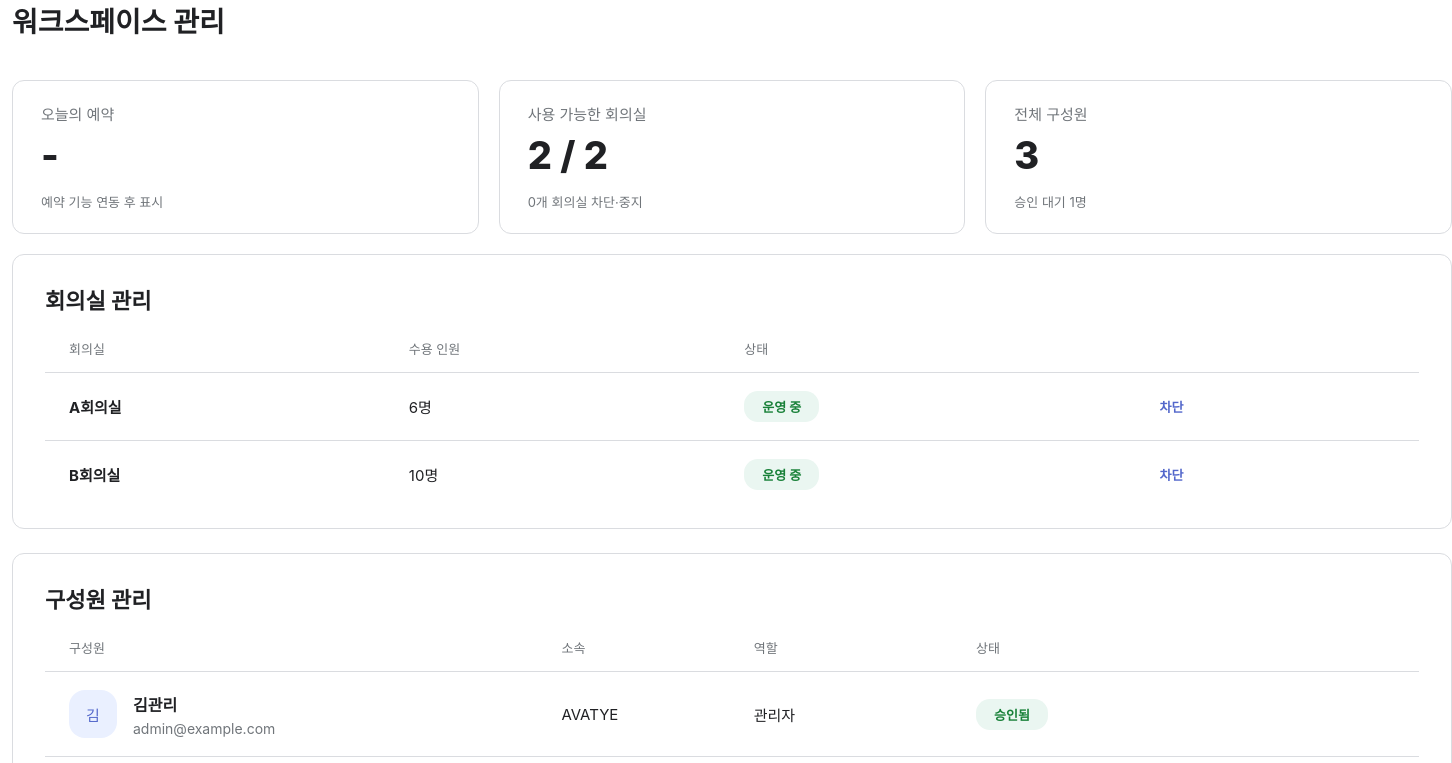
AdminPage › 처리에 실패하면 오류를 보여 주고 목록을 다시 받는다
Check: the text "A회의실" is shown, box [45, 372, 385, 440]
Click the button "차단" in the row of "A회의실" at (1171, 406), box [1160, 397, 1183, 416]
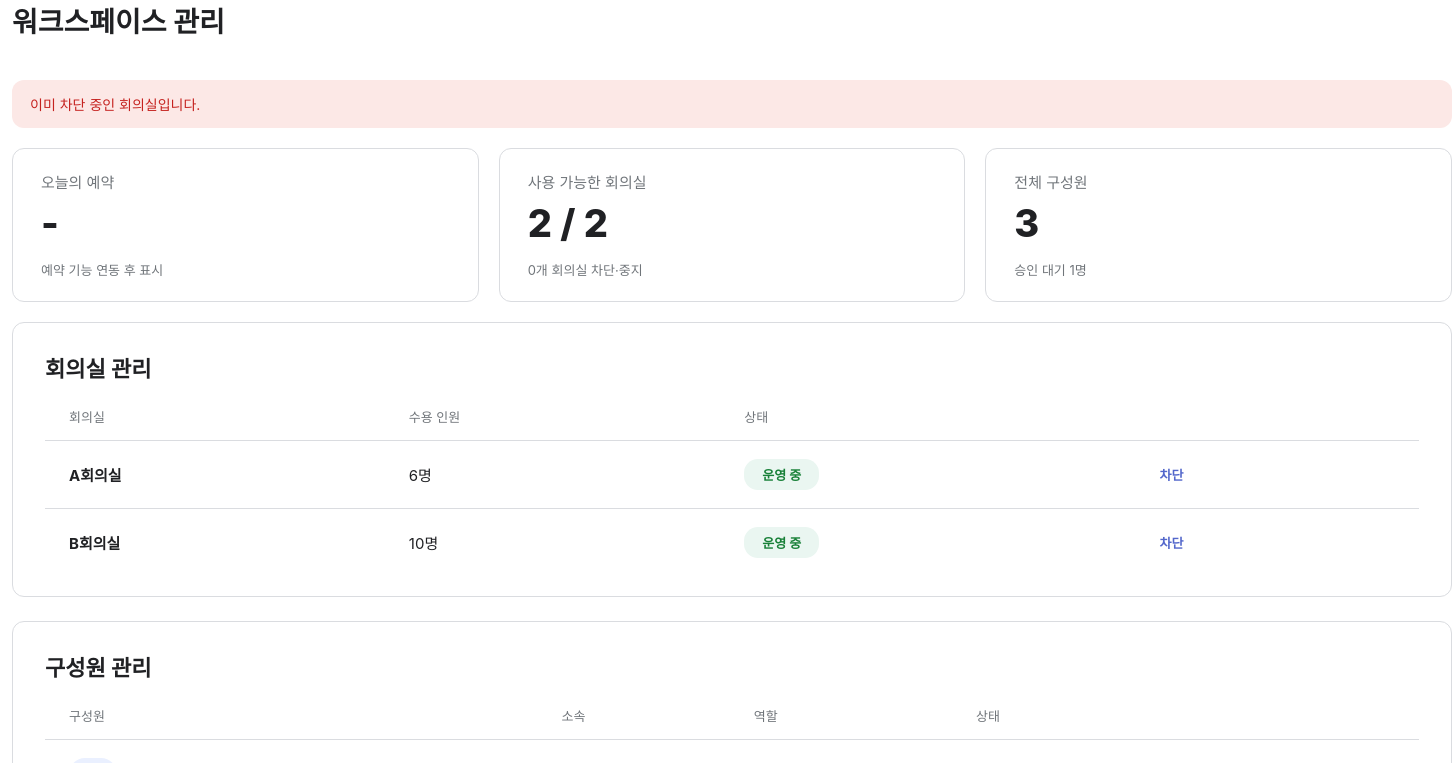
Check: the message reads "이미 차단 중인 회의실입니다.", box [30, 96, 200, 113]
